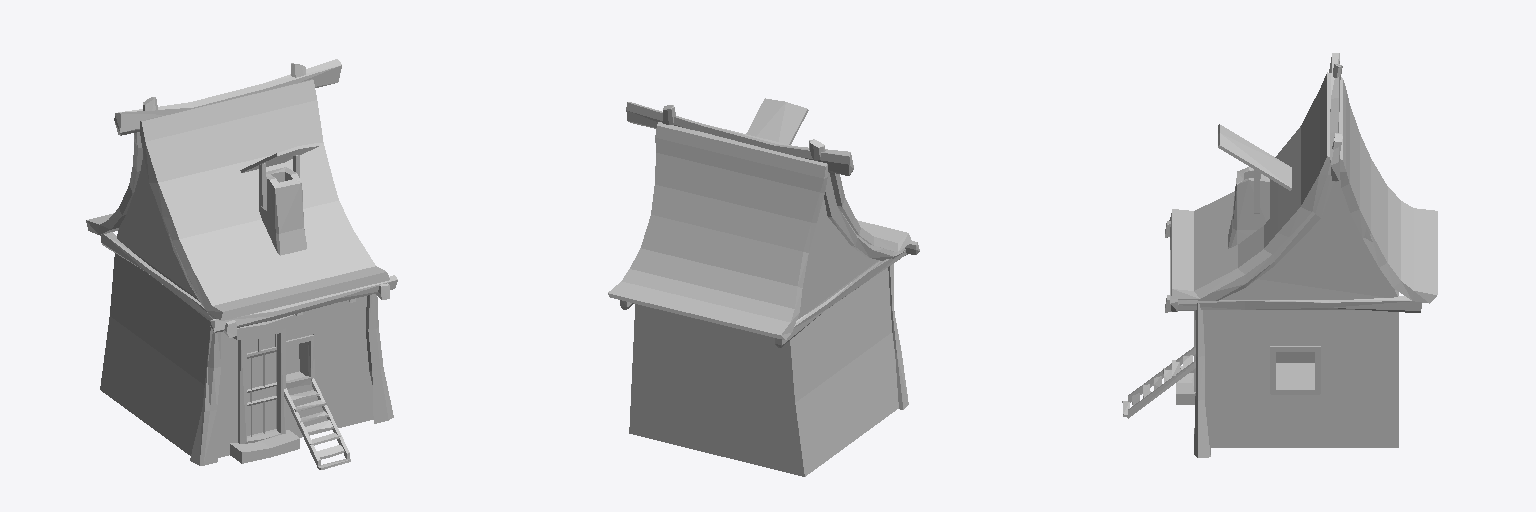
Rendered from uploads_files_699657_Bulding_02.obj.
3 views of the same model, side by side, from view 1: azimuth 30°, elevation 25°; view 2: azimuth 150°, elevation 25°; view 3: azimuth 270°, elevation 25° (orthographic).
Parts seen in each view (by area): view 1: bulding_02; view 2: bulding_02; view 3: bulding_02.
Boxes of the visible parts, box(x1,y1,x2,y2) form: bulding_02: box(86, 59, 397, 469); bulding_02: box(608, 98, 919, 476); bulding_02: box(1122, 53, 1437, 457).
Size of the model in its own units: 7.58 by 10.05 by 9.26.